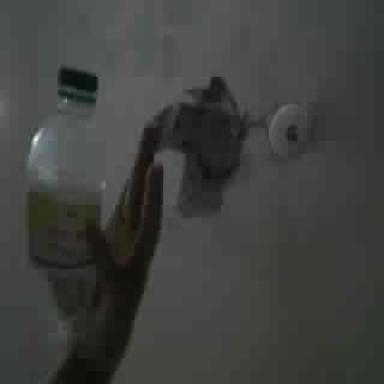bottle: (29, 67, 104, 328)
paper: (154, 77, 256, 216)
